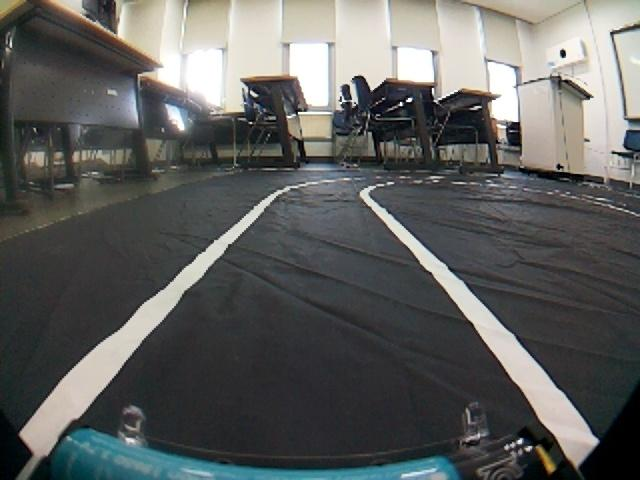straight: (24, 177, 640, 480)
